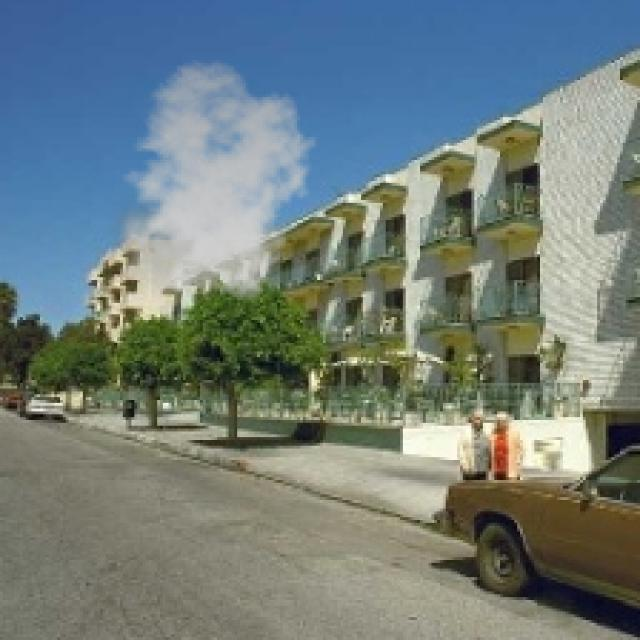smoke: (109, 60, 317, 309)
